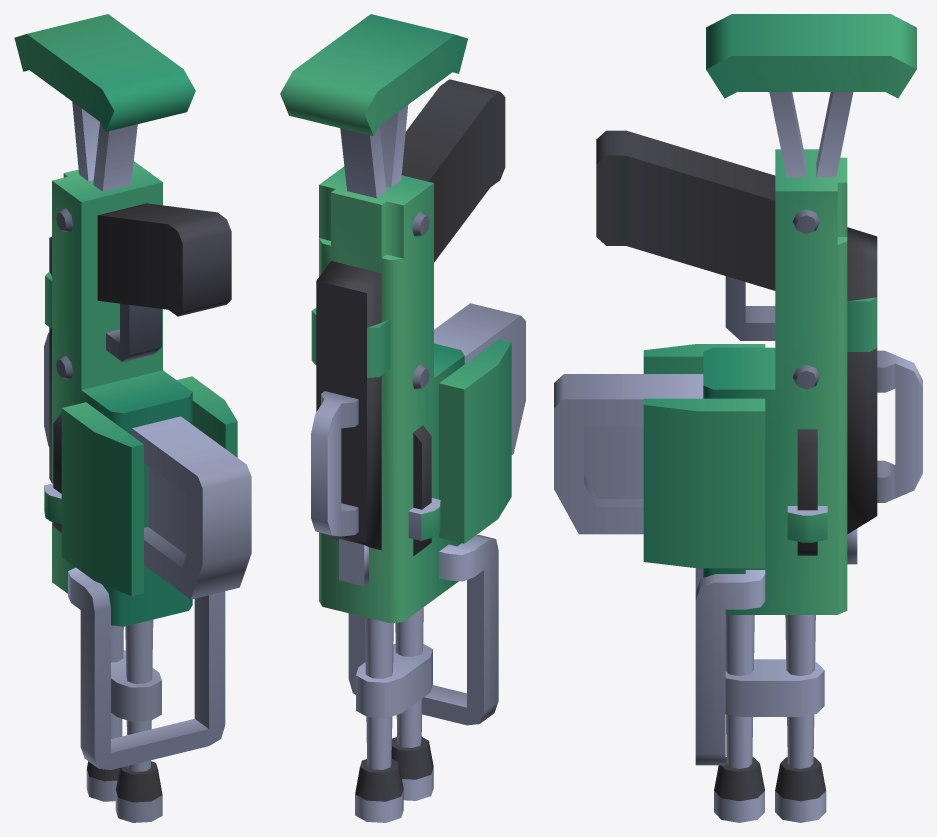
File: kb-blaster-p-lod2.glb
3 renders of one model, left to right at view 1: azimuth 30°, elevation 25°; view 2: azimuth 150°, elevation 25°; view 3: azimuth 270°, elevation 25°, orthographic. The views are drawn at different scales.
Parts seen in each view (by area): view 1: blaster-p, WeaponMesh_kb-blaster-p_magazine; view 2: blaster-p, WeaponMesh_kb-blaster-p_magazine; view 3: blaster-p, WeaponMesh_kb-blaster-p_magazine.
Part boxes in pixels (x1,y1,x2,y2): blaster-p: [14, 14, 237, 822]; WeaponMesh_kb-blaster-p_magazine: [132, 416, 251, 599]; blaster-p: [280, 14, 511, 822]; WeaponMesh_kb-blaster-p_magazine: [434, 303, 525, 454]; blaster-p: [596, 14, 922, 822]; WeaponMesh_kb-blaster-p_magazine: [554, 374, 703, 534].
Size of the model in its own units: 0.2691 by 1.45 by 0.6238.
Materials: 1 (1 with a texture image).
